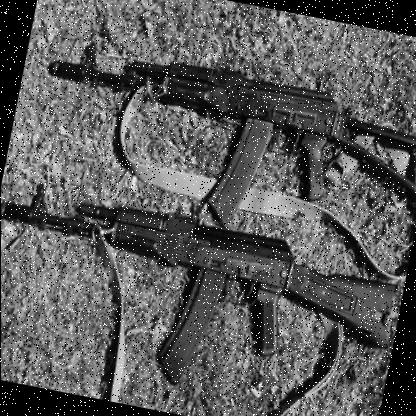rifle: (0, 180, 408, 410), (22, 33, 416, 256)
